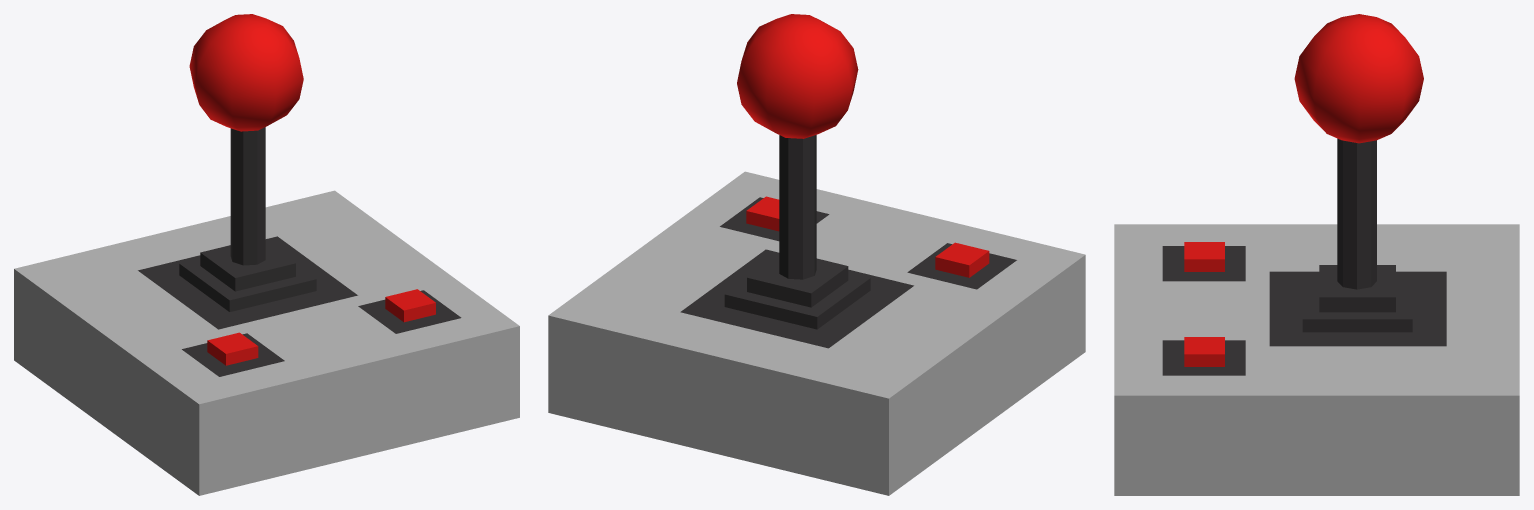
Rendered from joystıck222.fbx.
3 renders of one model, left to right at view 1: azimuth 30°, elevation 25°; view 2: azimuth 150°, elevation 25°; view 3: azimuth 270°, elevation 25°, orthographic. The views are drawn at different scales.
Parts seen in each view (by area): view 1: joystick; view 2: joystick; view 3: joystick.
Boxes of the visible parts, box(x1,y1,x2,y2) form: joystick: box(14, 14, 519, 495); joystick: box(548, 14, 1085, 495); joystick: box(1114, 14, 1519, 495).
Size of the model in its own units: 182 by 193 by 182.
